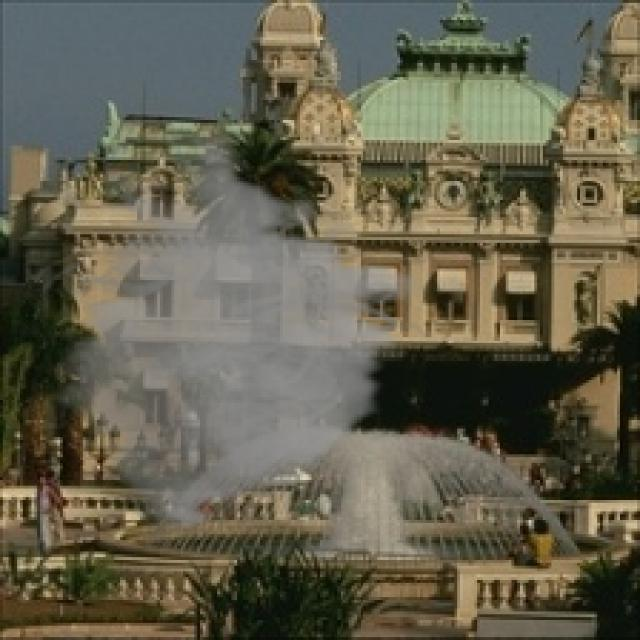Smoke: (19, 134, 434, 532)
